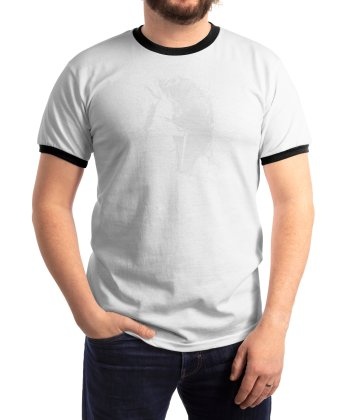design: (136, 72, 218, 182)
